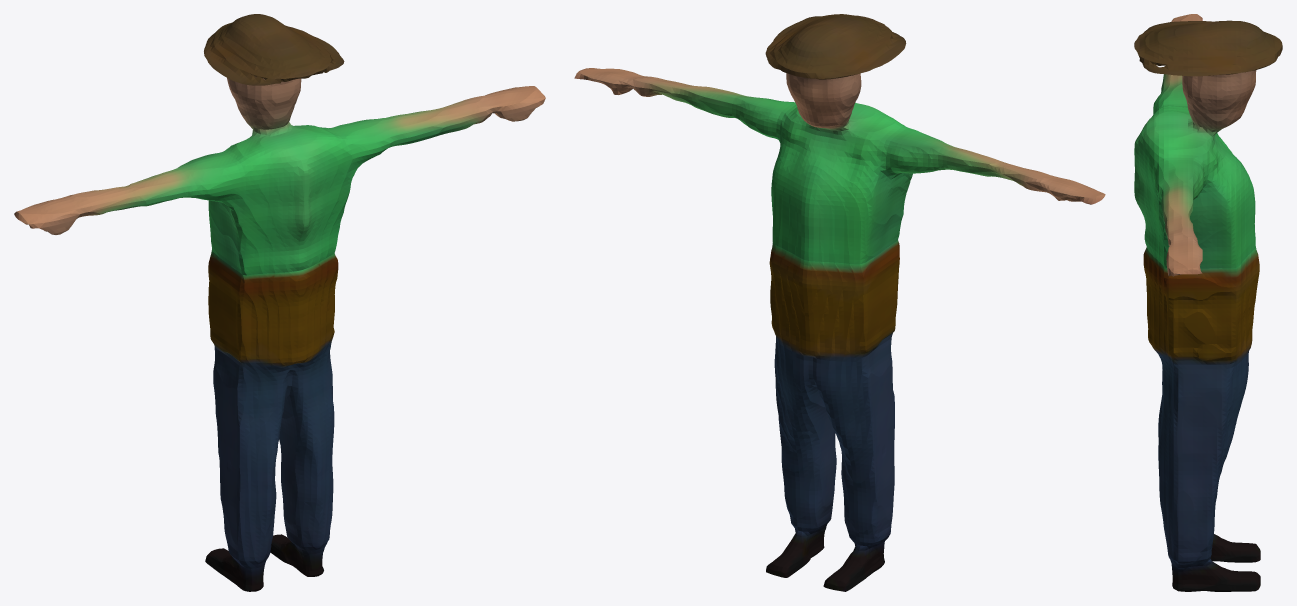
The model's file is tmpiglvc__u.glb.
3 views of the same model, side by side, from view 1: azimuth 30°, elevation 25°; view 2: azimuth 150°, elevation 25°; view 3: azimuth 270°, elevation 25° (orthographic).
Visible parts, largest first — view 1: tmphp7yhvrj.ply; view 2: tmphp7yhvrj.ply; view 3: tmphp7yhvrj.ply.
Boxes of the visible parts, box(x1,y1,x2,y2) form: tmphp7yhvrj.ply: box(14, 14, 545, 591); tmphp7yhvrj.ply: box(574, 14, 1105, 591); tmphp7yhvrj.ply: box(1134, 14, 1282, 591).
Bounding box in the file's own units: 1.96 × 1.95 × 0.4775.
